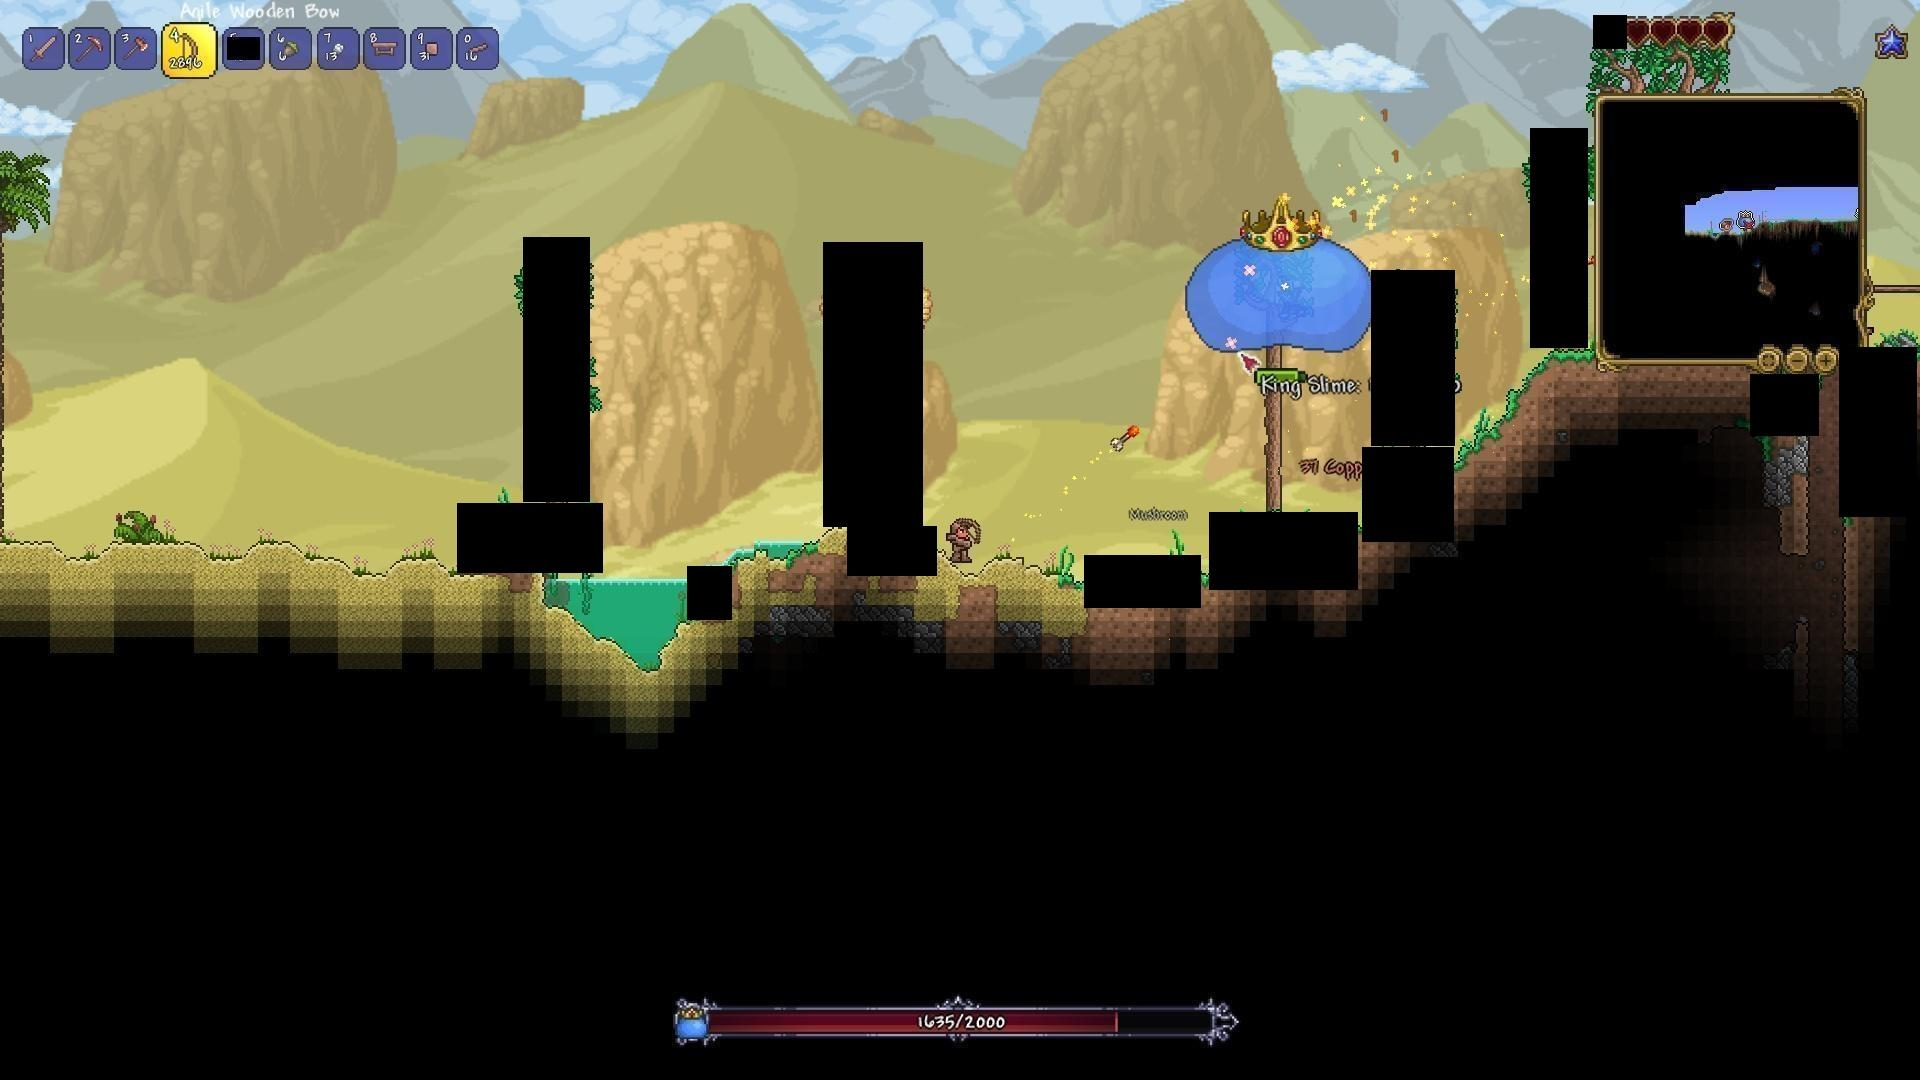dirt: (1458, 349, 1596, 465), (785, 543, 816, 580)
workbench: (367, 34, 404, 59)
